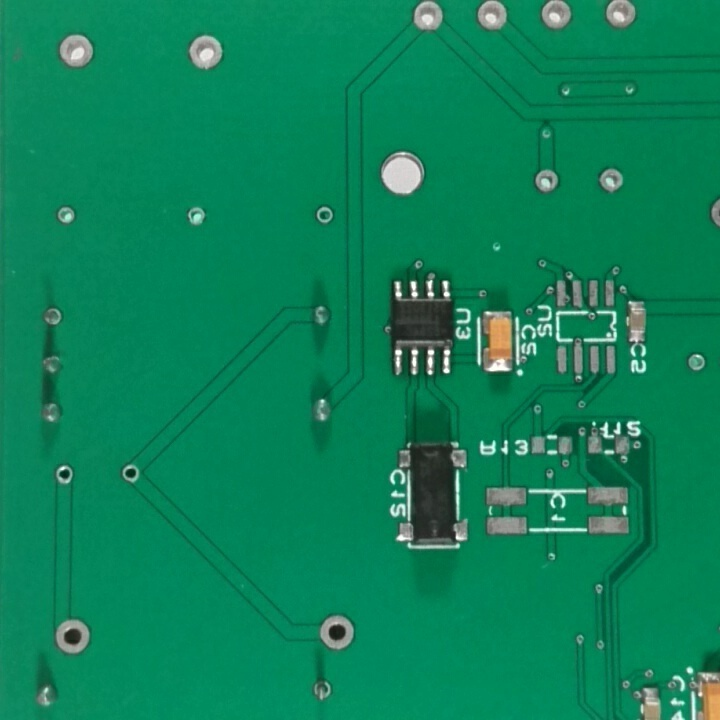F: (50, 617, 94, 662), (184, 30, 227, 73), (316, 610, 354, 655), (57, 31, 96, 71), (408, 1, 449, 39), (475, 1, 511, 39), (536, 1, 576, 35), (602, 1, 641, 34), (530, 163, 561, 196), (596, 162, 624, 198), (304, 679, 337, 707), (49, 461, 79, 489), (683, 346, 707, 378), (39, 303, 64, 332), (53, 201, 76, 232), (183, 204, 210, 226), (119, 463, 143, 486), (313, 204, 335, 228)
